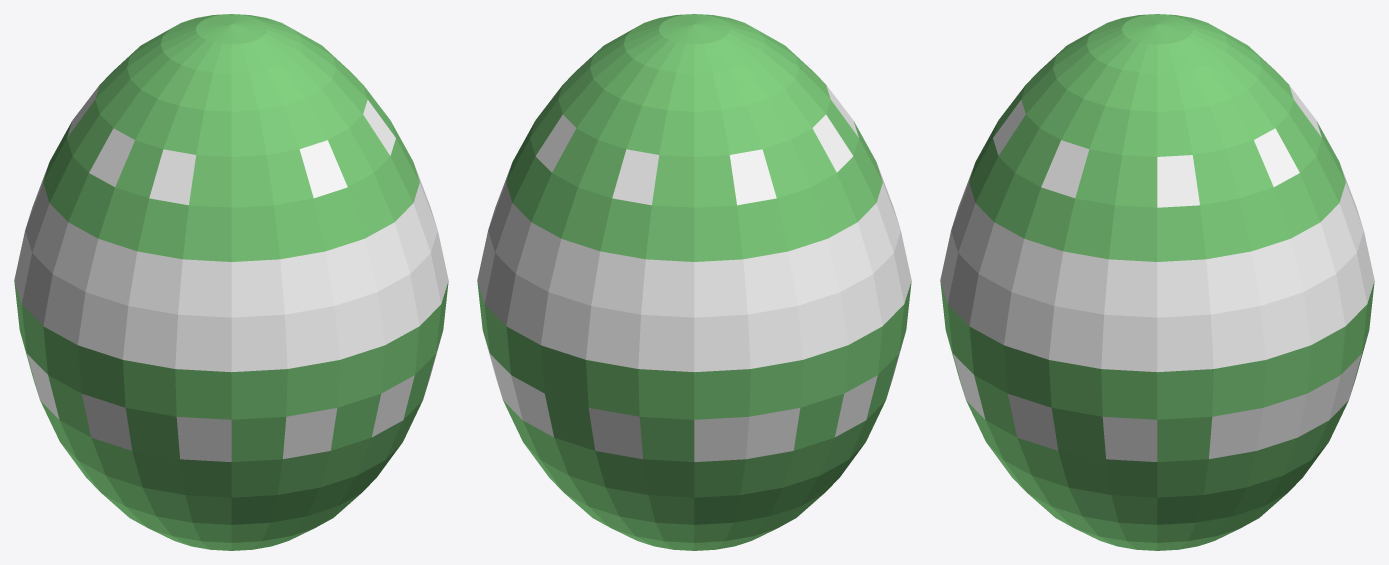
Rendered from Egg_clover.fbx.
3 views of the same model, side by side, from view 1: azimuth 30°, elevation 25°; view 2: azimuth 150°, elevation 25°; view 3: azimuth 270°, elevation 25° (orthographic).
Visible parts, largest first — view 1: Egg_clover; view 2: Egg_clover; view 3: Egg_clover.
Part boxes in pixels (x1=…): Egg_clover: x1=14, y1=14, x2=448, y2=550; Egg_clover: x1=477, y1=14, x2=911, y2=550; Egg_clover: x1=940, y1=14, x2=1374, y2=550.
Bounding box in the file's own units: 28 × 36.4 × 28.
